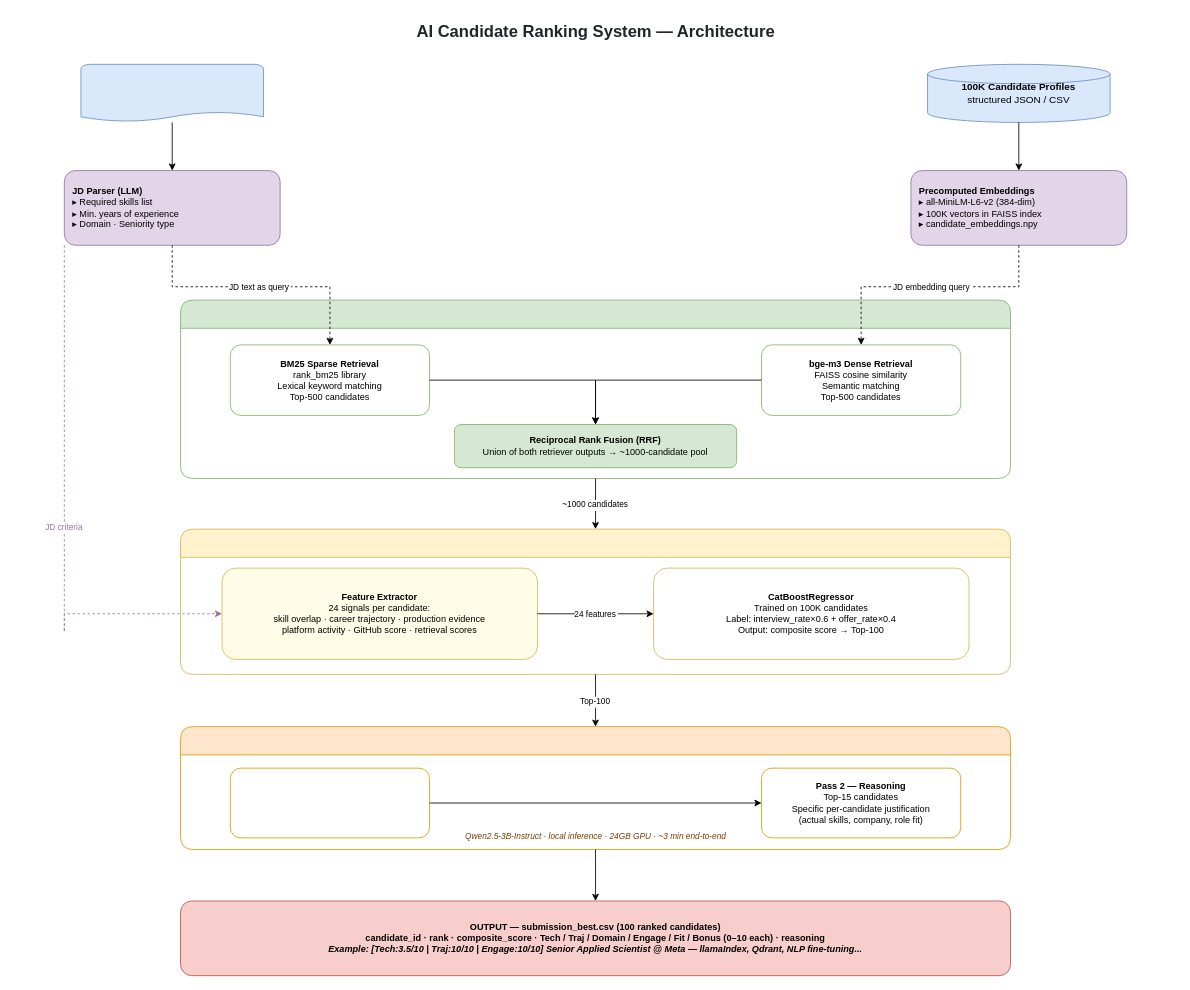
The diagram is 1190 pixels wide and 990 high, and some of its shapes have lost their labels. Each missing label, with the box of its shape:
Job Description job_description.txt: (80, 63, 264, 122)
Pass 1 — Ranking Top-50 candidates Compact JSON ranking: (229, 767, 430, 838)
STAGE 1 — Hybrid Retrieval (high recall): (180, 299, 1011, 478)
STAGE 2 — Feature Extraction + CatBoost LTR (precision re-ranking): (180, 528, 1011, 674)
STAGE 3 — LLM Reasoning (explainability): (180, 726, 1011, 850)
